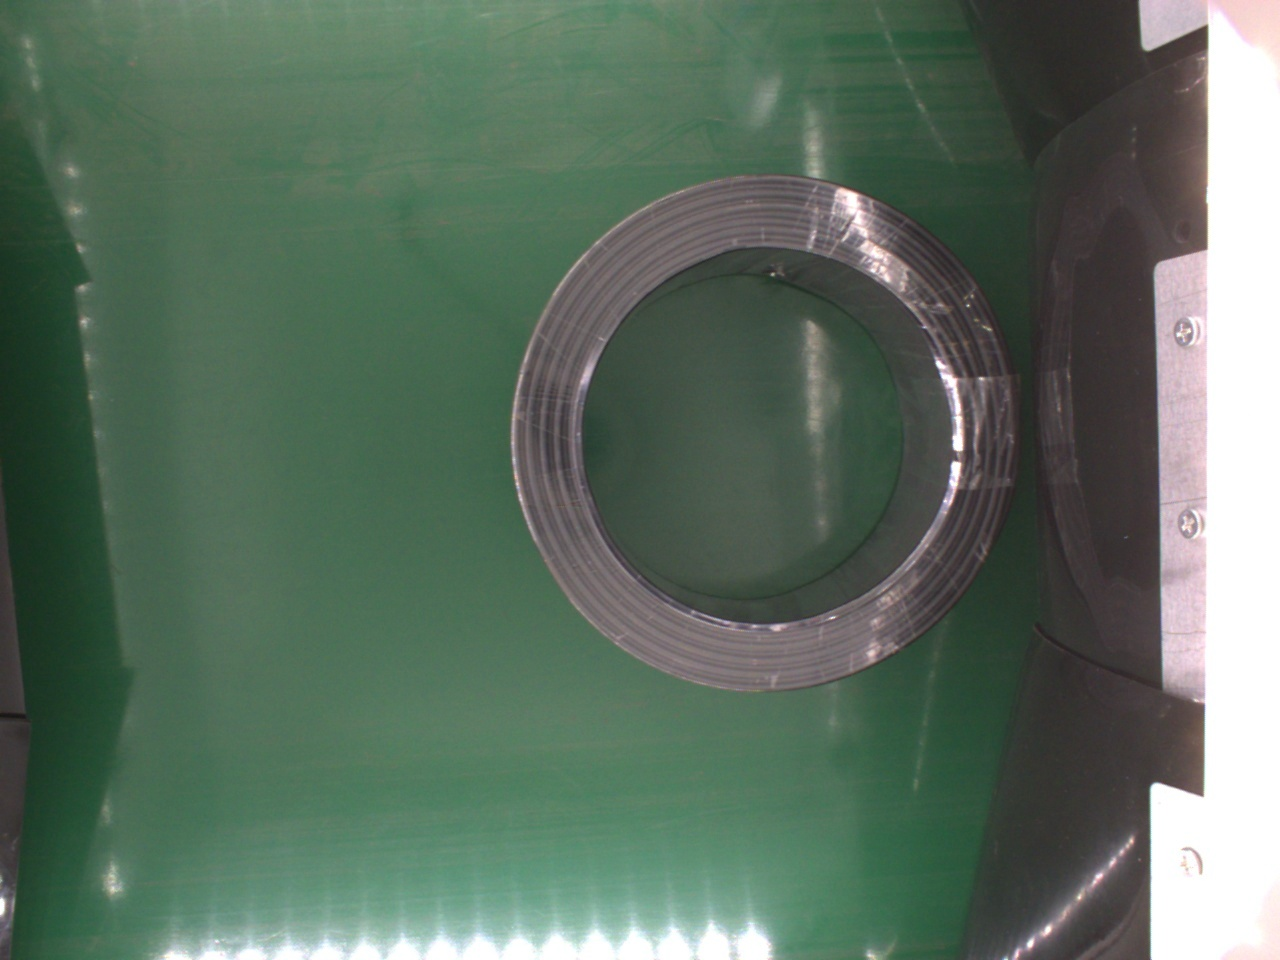black: (505, 172, 1021, 696)
